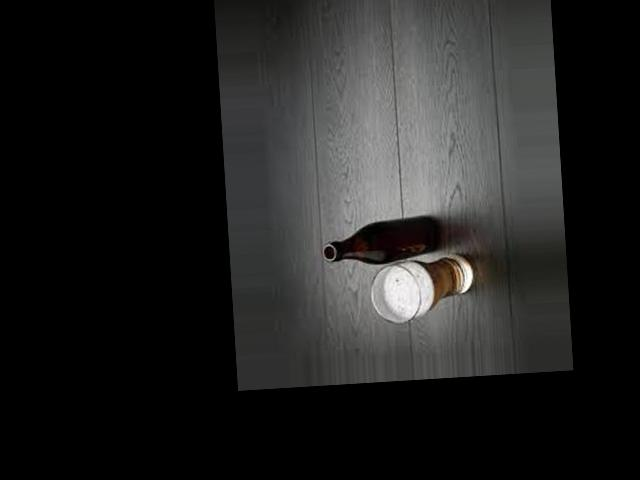beer: (319, 213, 445, 268)
